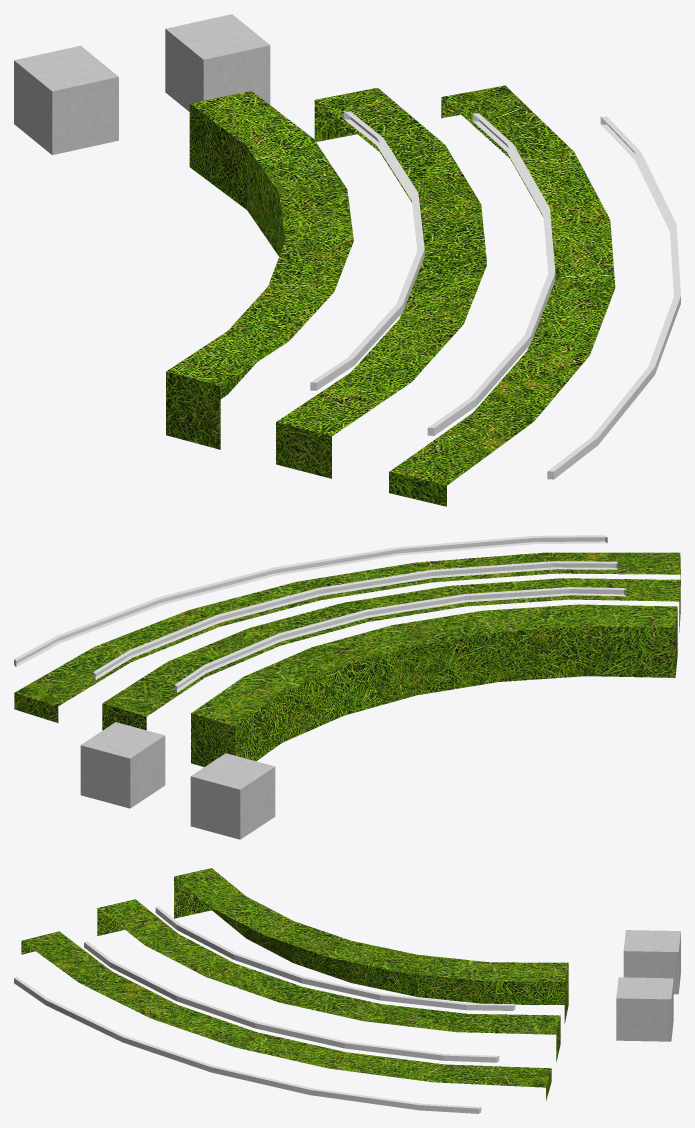
Rendered from Others4.fbx.
3 views of the same model, one above another, from view 1: azimuth 30°, elevation 25°; view 2: azimuth 150°, elevation 25°; view 3: azimuth 270°, elevation 25° (orthographic). The views are drawn at different scales.
Visible parts, largest first — view 1: Object018, Glow, Box018, Box017; view 2: Object018, Glow, Box017, Box018; view 3: Object018, Glow, Box017, Box018.
Part boxes in pixels (<box>): Object018: <box>166,85,615,506</box>; Glow: <box>310,111,680,479</box>; Box018: <box>14,45,118,155</box>; Box017: <box>165,14,270,111</box>; Object018: <box>14,552,680,767</box>; Glow: <box>14,535,626,692</box>; Box017: <box>80,722,165,808</box>; Box018: <box>190,753,275,839</box>; Object018: <box>21,868,568,1100</box>; Glow: <box>14,906,515,1113</box>; Box017: <box>616,977,673,1041</box>; Box018: <box>623,930,680,994</box>.
Size of the model in its own units: 15.81 by 1.58 by 21.43.
